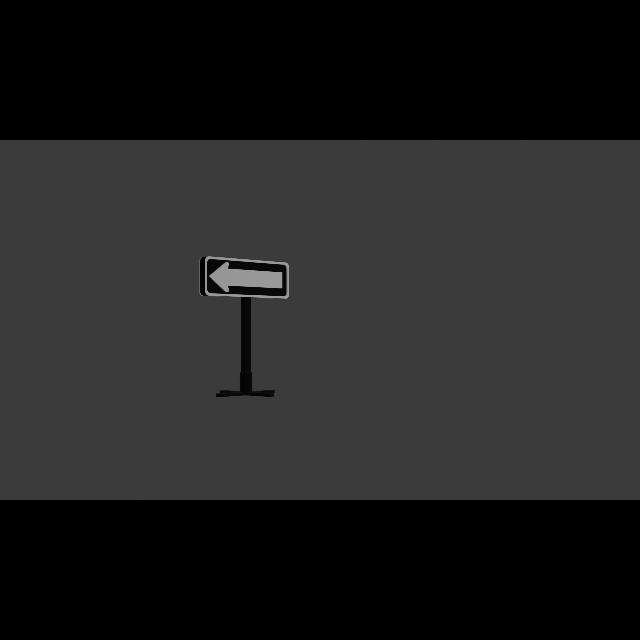sign_oneway_left: (203, 256, 292, 301)
